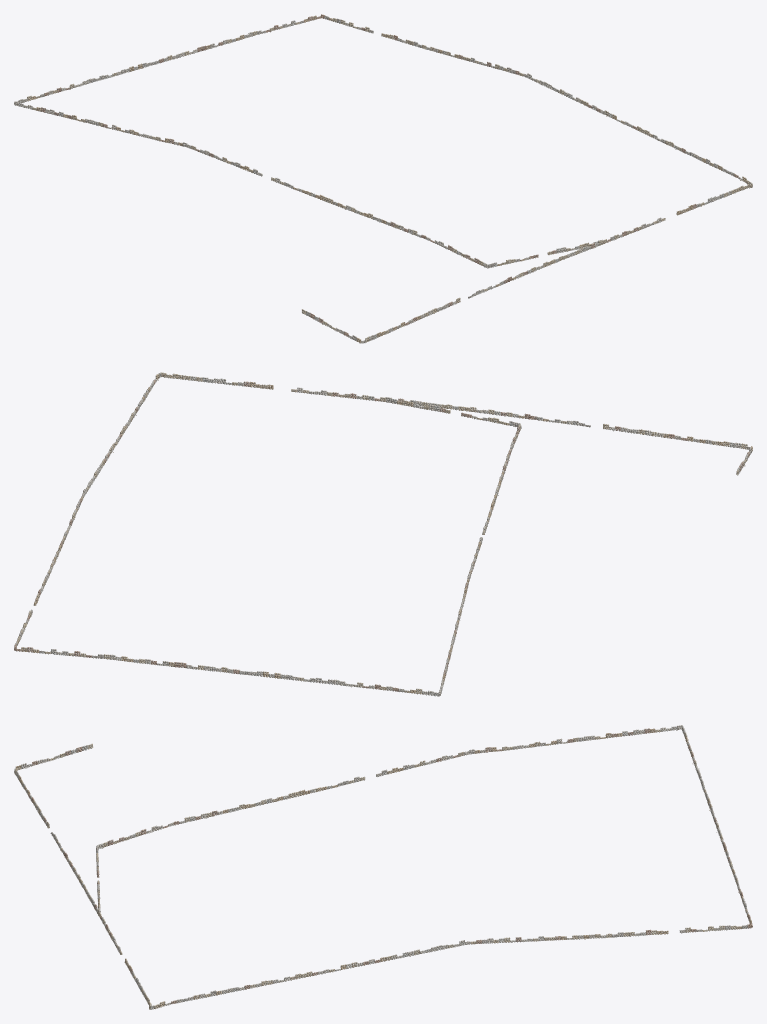
The model's file is farm_-26_-20_near.glb.
The picture shows the model from 3 angles, top to bottom: view 1: azimuth 30°, elevation 25°; view 2: azimuth 150°, elevation 25°; view 3: azimuth 270°, elevation 25°; orthographic projection. The views are drawn at different scales.
Parts seen in each view (by area): view 1: geometry_0; view 2: geometry_0; view 3: geometry_0.
Part boxes in pixels (left/top/right/bottom): geometry_0: left=14, top=14, right=752, bottom=343; geometry_0: left=14, top=372, right=752, bottom=696; geometry_0: left=14, top=725, right=752, bottom=1009.
Bounding box in the file's own units: 165 × 12.05 × 199.
